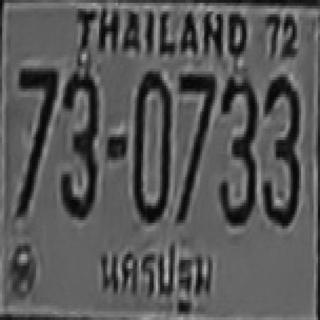N00: (132, 68, 170, 220)
N03: (217, 74, 257, 223), (59, 68, 97, 217), (261, 74, 299, 223)
N07: (17, 66, 57, 206), (177, 71, 215, 214), (17, 66, 57, 177), (17, 66, 57, 157)
P28: (96, 230, 220, 318)
